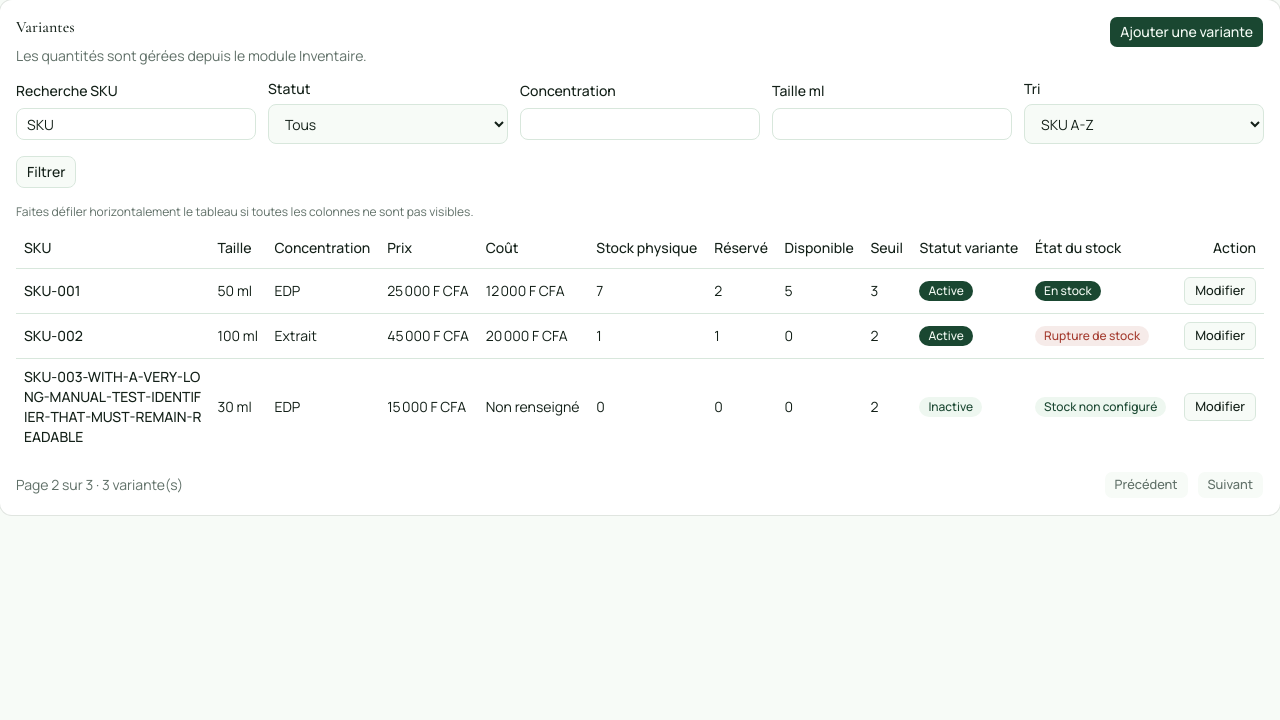
VariantEditor › refreshes server-rendered variant data after a successful update without losing pagination params
The image size is (1280, 720).
Click the button "Modifier" in the row of "SKU-001". click: [1220, 290]
box: [1184, 276, 1256, 304]
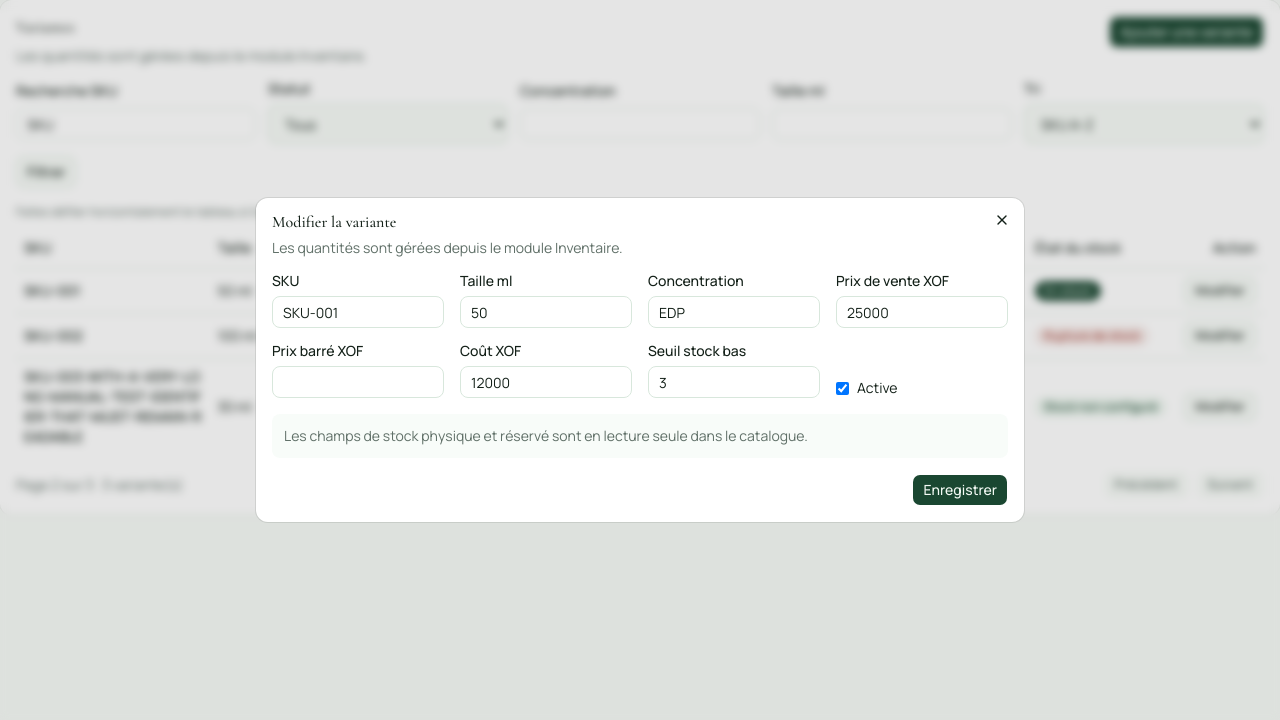
expect the form labelled "SKU" is shown: met
Submit the form labelled "SKU", box [272, 274, 1008, 506]
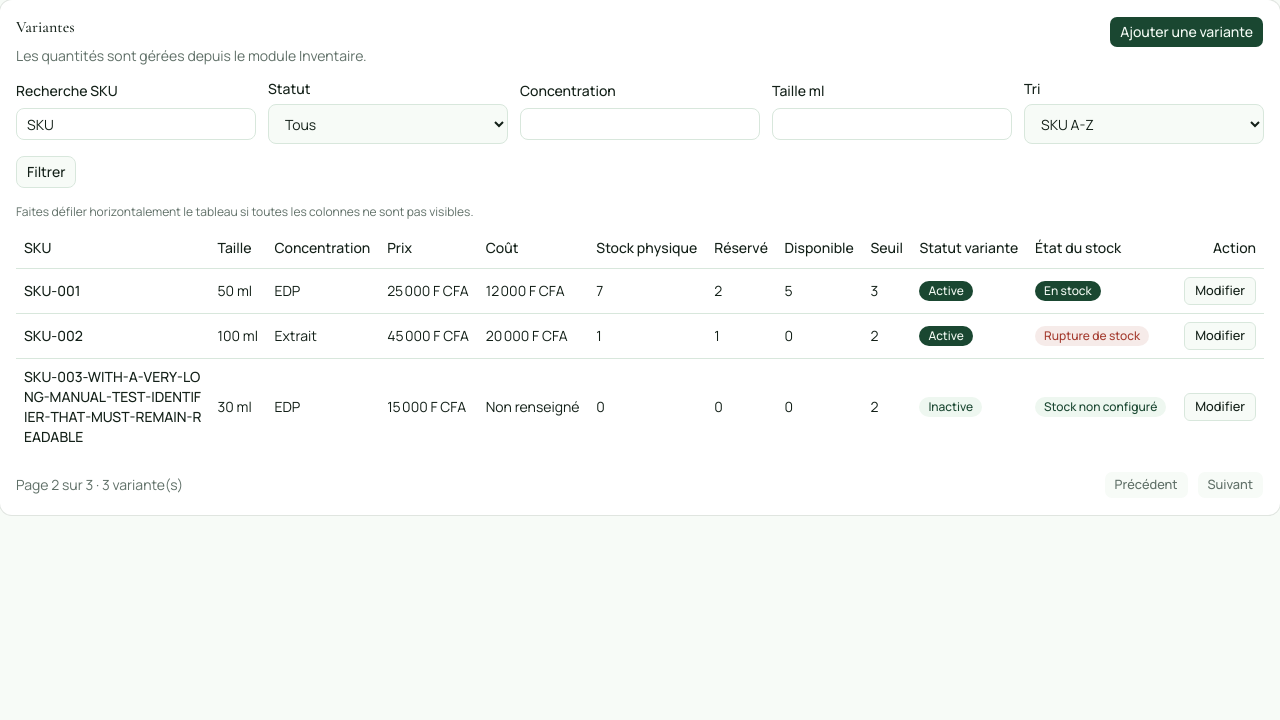
expect the dialog is gone: met
